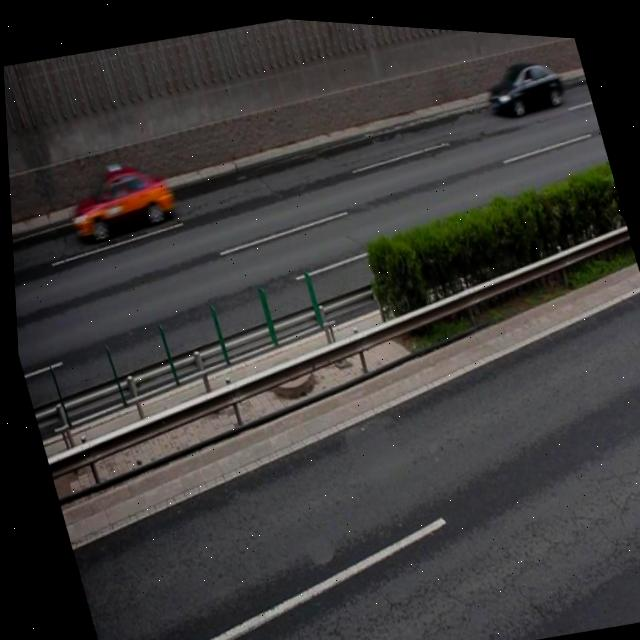car: (54, 150, 181, 248), (476, 40, 567, 115)
